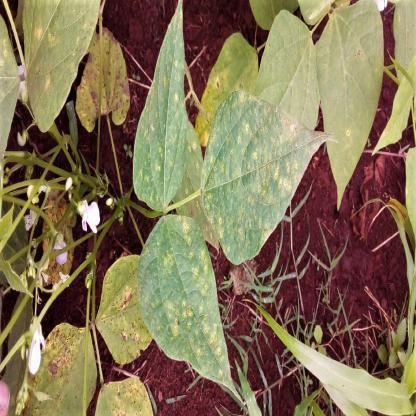Beans_Rust: (198, 92, 339, 266), (142, 220, 246, 402), (313, 0, 386, 207), (129, 9, 202, 213), (25, 0, 101, 121), (74, 27, 129, 136), (99, 253, 154, 359), (34, 324, 95, 416), (205, 30, 258, 134)
